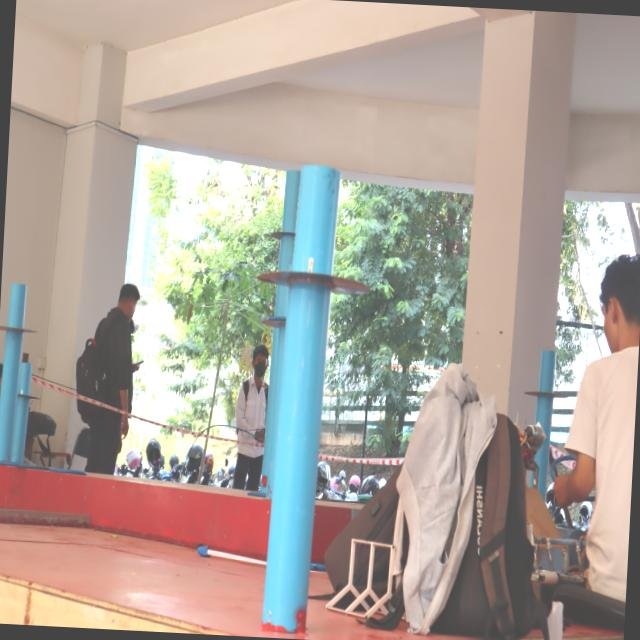pole: (254, 162, 376, 339), (0, 270, 47, 357)
